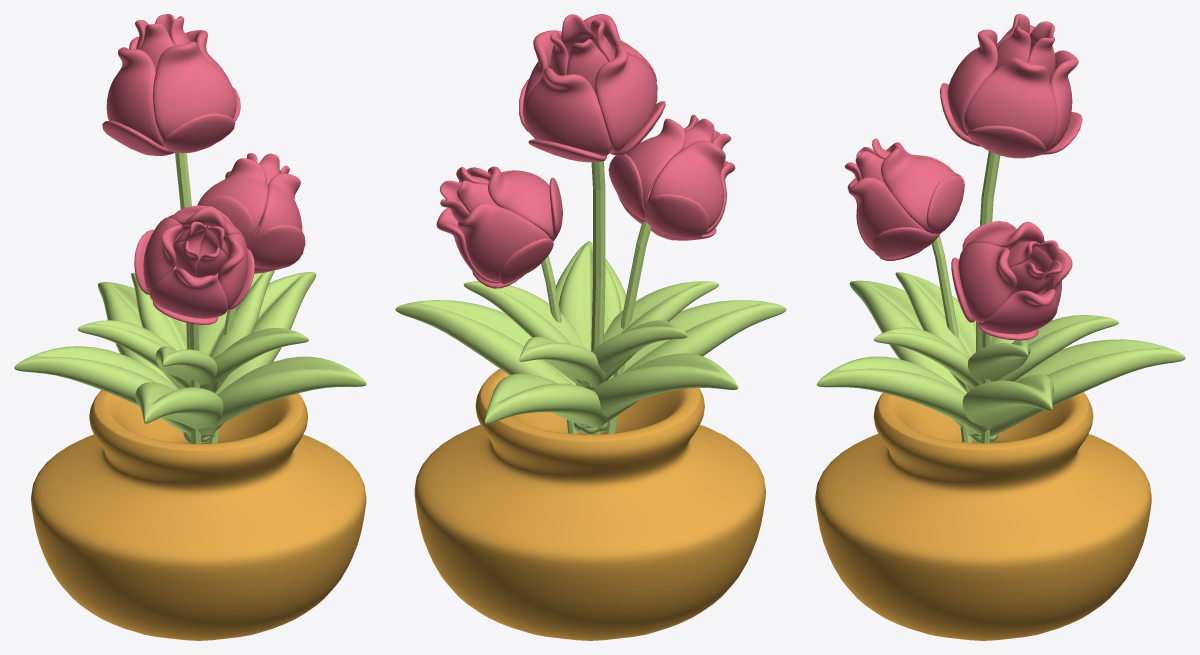
The model's file is pot.fbx.
3 views of the same model, side by side, from view 1: azimuth 30°, elevation 25°; view 2: azimuth 150°, elevation 25°; view 3: azimuth 270°, elevation 25° (orthographic). The views are drawn at different scales.
Visible parts, largest first — view 1: Circle, Plane.003, Plane.016, Plane.014, Plane.002, Plane.015, Plane.013, Plane.024, Plane.018, Plane.034, Plane.021, Plane.019 (+18 smaller); view 2: Circle, Plane.013, Plane.001, Plane.015, Plane.014, Plane.002, Plane, Plane.037, Plane.023, Plane.021, Plane.018, Plane.034 (+22 smaller); view 3: Circle, Plane, Plane.004, Plane.016, Plane.035, Plane.013, Plane.015, Plane.022, Plane.020, Plane.017, Plane.025, Plane.003 (+18 smaller).
Part boxes in pixels (x1,y1,x2,y2): Circle: (31, 390, 366, 640); Plane.003: (153, 41, 236, 140); Plane.016: (185, 356, 366, 436); Plane.014: (14, 346, 214, 438); Plane.002: (106, 47, 163, 146); Plane.015: (135, 382, 223, 434); Plane.013: (183, 272, 316, 443); Plane.024: (149, 268, 227, 318); Plane.018: (198, 270, 274, 392); Plane.034: (197, 158, 268, 243); Plane.021: (200, 328, 308, 389); Plane.019: (77, 320, 189, 388); Circle: (414, 369, 765, 640); Plane.013: (395, 300, 607, 431); Plane.001: (523, 67, 609, 155); Plane.015: (573, 300, 786, 431); Plane.014: (575, 353, 738, 427); Plane.002: (595, 45, 657, 153); Plane: (484, 373, 607, 427); Plane.037: (458, 203, 549, 281); Plane.023: (646, 140, 725, 228); Plane.021: (559, 241, 621, 384); Plane.018: (463, 281, 593, 390); Plane.034: (488, 166, 554, 241); Circle: (815, 392, 1151, 640); Plane: (968, 339, 1185, 438); Plane.004: (964, 57, 1057, 148); Plane.016: (816, 356, 990, 435); Plane.035: (958, 242, 1016, 322); Plane.013: (962, 374, 1053, 433); Plane.015: (849, 280, 998, 442); Plane.022: (881, 147, 955, 233); Plane.020: (895, 272, 975, 392); Plane.017: (997, 315, 1118, 381); Plane.025: (848, 177, 923, 248); Plane.003: (947, 29, 997, 136).
Size of what is drawn, in the model's own units: 95.49 by 168 by 96.97.
